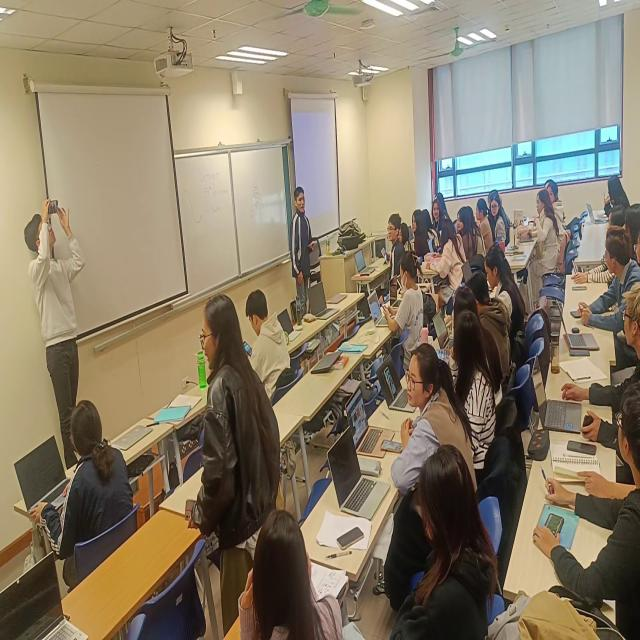raise_head: (244, 502, 324, 640), (401, 337, 457, 431), (451, 300, 491, 399), (613, 374, 640, 462), (602, 226, 635, 281), (616, 278, 640, 349), (485, 244, 512, 297), (476, 196, 489, 229)
stand: (196, 294, 269, 613), (22, 197, 84, 454), (294, 185, 314, 317)
using_computer: (12, 401, 135, 562), (368, 255, 426, 336), (587, 171, 628, 228)
using_phone: (241, 292, 277, 363)
